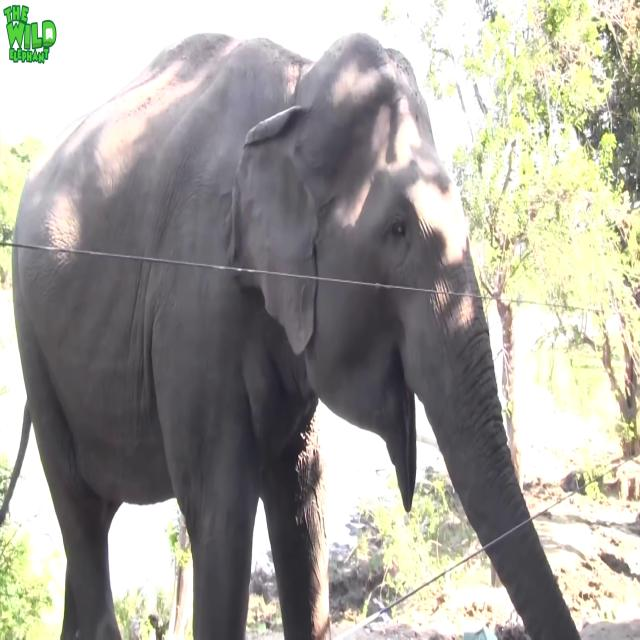Elephant: (1, 29, 581, 638)
